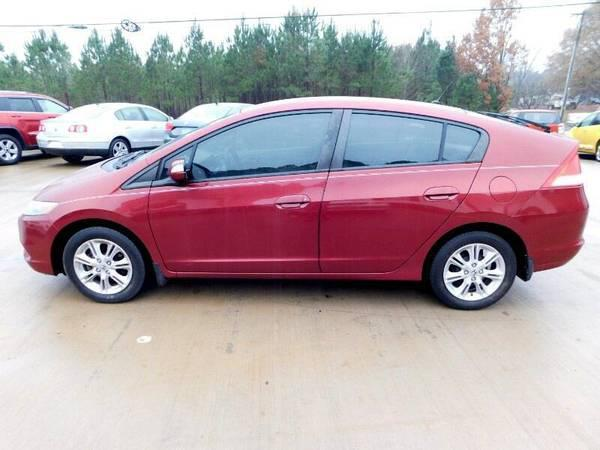Front_Bumper: (20, 211, 56, 278)
Front_Fender: (50, 155, 168, 279)
Front_Left_Door: (146, 170, 330, 279)
Front_Left_Window: (150, 108, 342, 186)
Hood: (32, 160, 119, 203)
Left_Headlight: (20, 201, 59, 216)
Left_Taillight: (539, 139, 587, 189)
Rear_Bumper: (508, 186, 591, 275)
Rear_Fender: (455, 165, 557, 226)
Rear_Left_Door: (317, 162, 479, 283)
Rear_Left_Window: (331, 108, 490, 170)
Roof: (137, 92, 576, 170)
Wheel: (429, 232, 517, 311), (61, 226, 145, 303)
